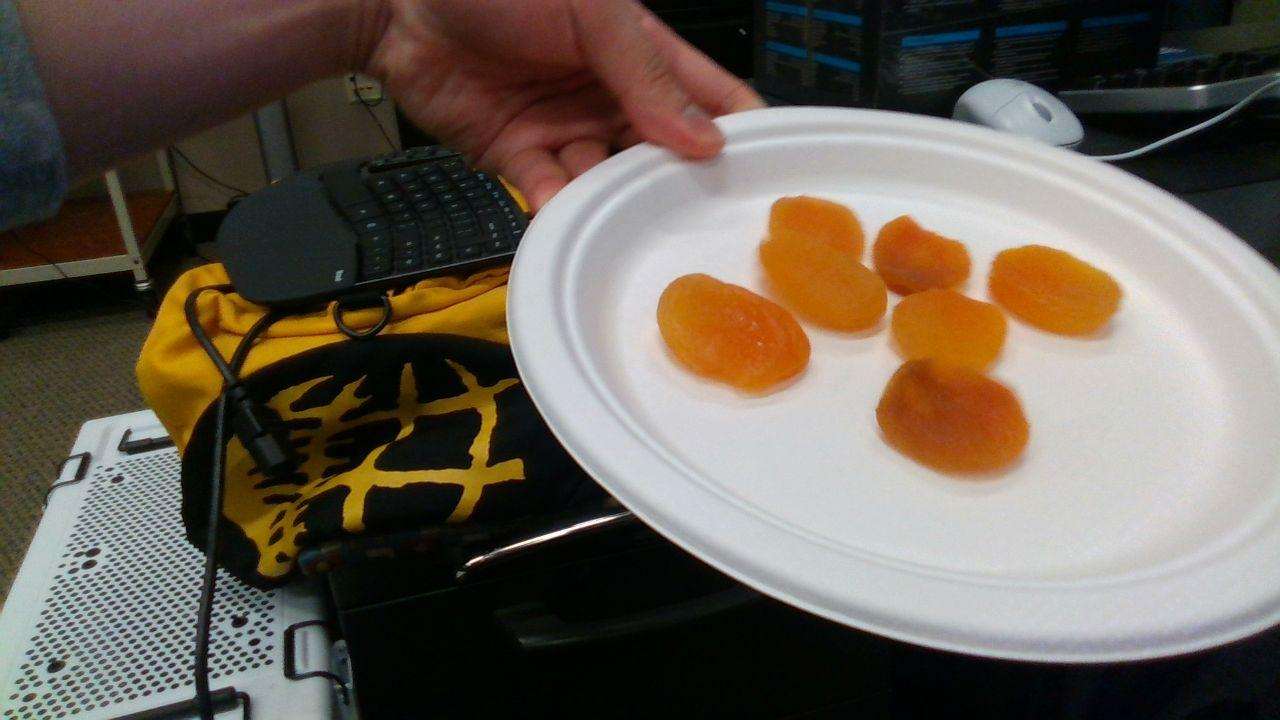apricot: (656, 274, 810, 393), (878, 360, 1030, 473), (762, 231, 887, 332), (989, 245, 1121, 336), (893, 291, 1007, 374), (874, 217, 971, 298)
plate: (509, 106, 1280, 663)
